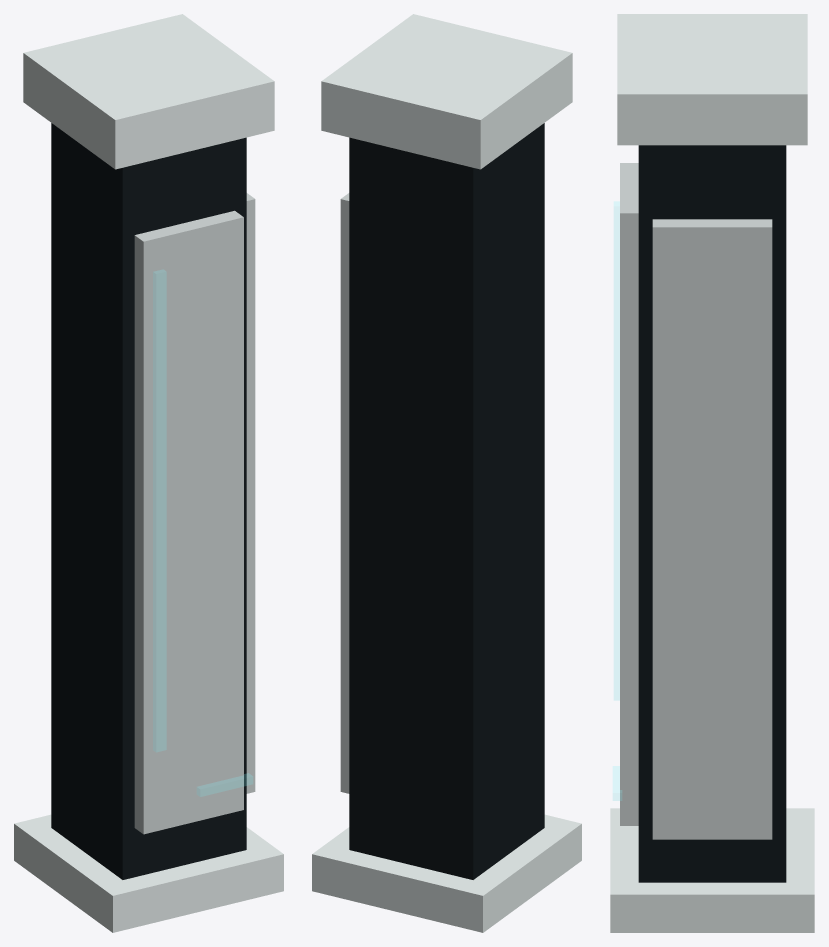
File: hp_room_corner_pillar_clinic.glb
The picture shows the model from 3 angles, left to right: view 1: azimuth 30°, elevation 25°; view 2: azimuth 150°, elevation 25°; view 3: azimuth 270°, elevation 25°; orthographic projection. The views are drawn at different scales.
Visible parts, largest first — view 1: clinic_corner_pillar_core, clinic_corner_pillar_front_plate, clinic_corner_pillar_top_cap, clinic_corner_pillar_floor_cap, clinic_corner_pillar_vertical_light, clinic_corner_pillar_side_plate, clinic_corner_pillar_low_status; view 2: clinic_corner_pillar_core, clinic_corner_pillar_top_cap, clinic_corner_pillar_floor_cap, clinic_corner_pillar_side_plate; view 3: clinic_corner_pillar_side_plate, clinic_corner_pillar_core, clinic_corner_pillar_top_cap, clinic_corner_pillar_floor_cap, clinic_corner_pillar_front_plate, clinic_corner_pillar_vertical_light.
Boxes of the visible parts, bbox=[...] form: clinic_corner_pillar_core: bbox=[51, 123, 246, 879]; clinic_corner_pillar_front_plate: bbox=[134, 210, 243, 834]; clinic_corner_pillar_top_cap: bbox=[23, 14, 274, 169]; clinic_corner_pillar_floor_cap: bbox=[14, 814, 283, 932]; clinic_corner_pillar_vertical_light: bbox=[153, 270, 166, 751]; clinic_corner_pillar_side_plate: bbox=[246, 193, 255, 793]; clinic_corner_pillar_low_status: bbox=[197, 773, 252, 796]; clinic_corner_pillar_core: bbox=[349, 123, 544, 879]; clinic_corner_pillar_top_cap: bbox=[321, 14, 572, 169]; clinic_corner_pillar_floor_cap: bbox=[312, 814, 581, 932]; clinic_corner_pillar_side_plate: bbox=[340, 193, 349, 793]; clinic_corner_pillar_side_plate: bbox=[652, 219, 772, 839]; clinic_corner_pillar_core: bbox=[638, 145, 786, 882]; clinic_corner_pillar_top_cap: bbox=[617, 14, 807, 145]; clinic_corner_pillar_floor_cap: bbox=[610, 808, 814, 932]; clinic_corner_pillar_front_plate: bbox=[620, 163, 638, 825]; clinic_corner_pillar_vertical_light: bbox=[614, 201, 619, 700].
Size of the model in its own units: 0.58 by 2.62 by 0.58.
